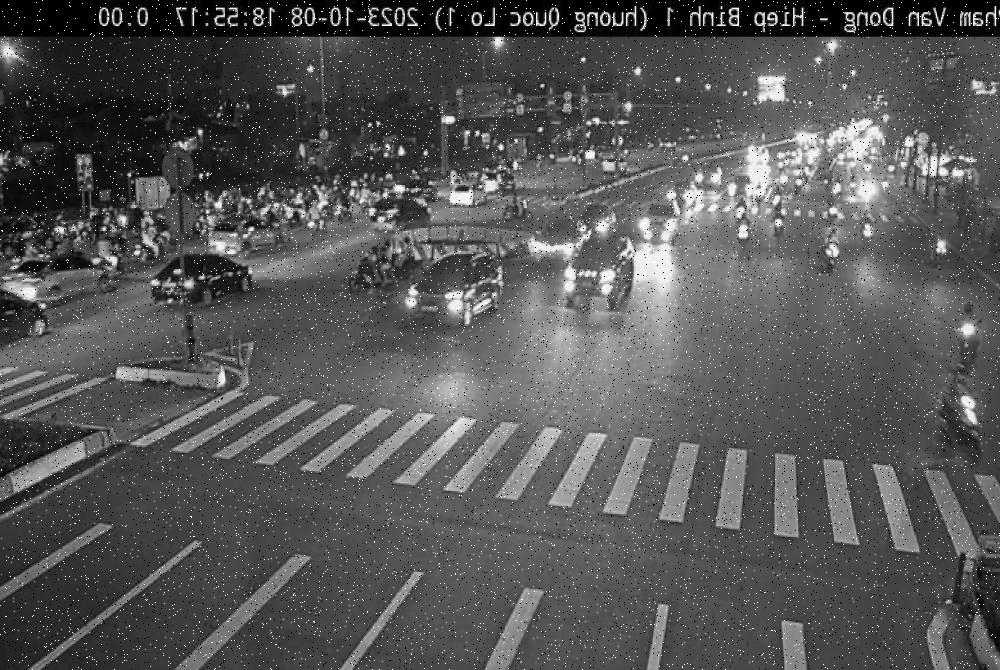car: (0, 234, 126, 338), (552, 214, 646, 348), (403, 250, 505, 326), (0, 269, 70, 365), (147, 258, 246, 308)
motorbike: (347, 266, 382, 294)
